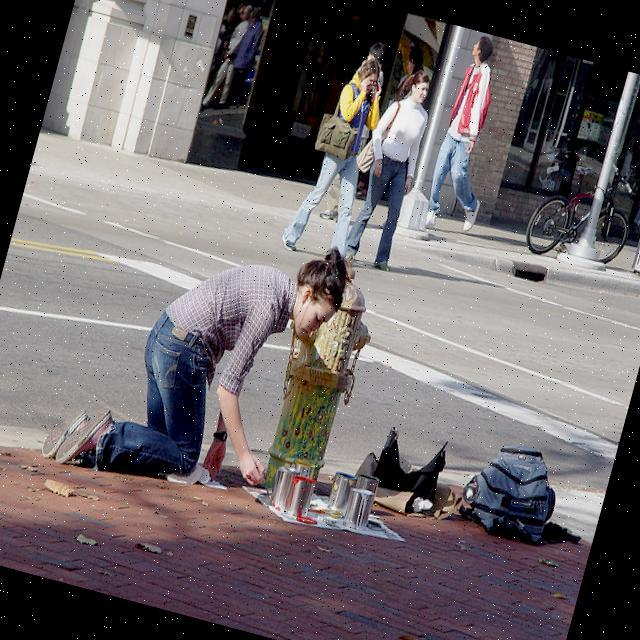fire_hydrant: (249, 243, 392, 507)
